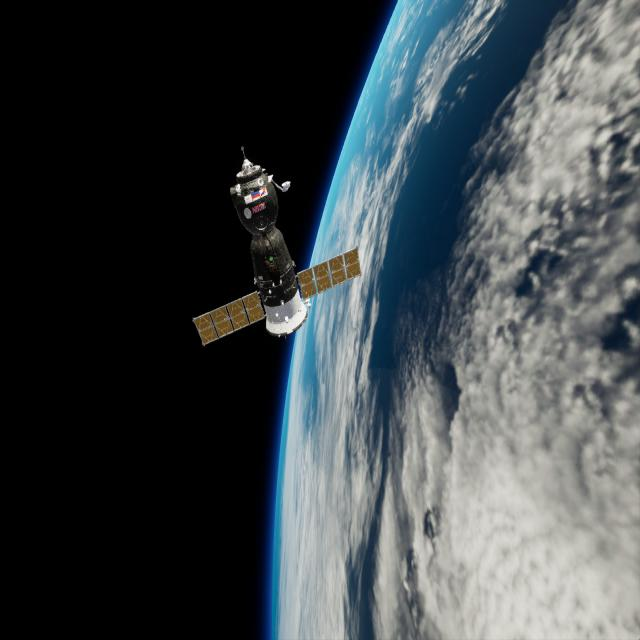Satellites revolving around earth: (190, 142, 363, 348)
